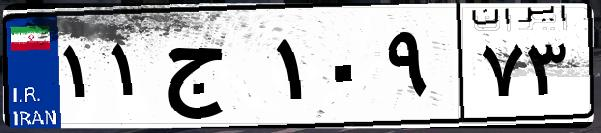0: (330, 28, 385, 110)
1: (270, 28, 330, 110), (57, 26, 110, 100), (110, 28, 158, 98)
3: (525, 38, 570, 115)
7: (475, 38, 525, 113)
9: (385, 28, 445, 110)
ج: (158, 20, 270, 120)
